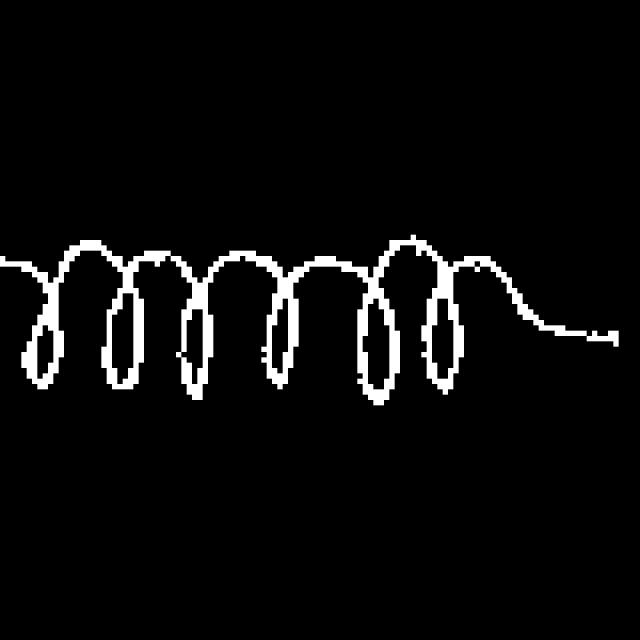inductor: (5, 216, 522, 438)
